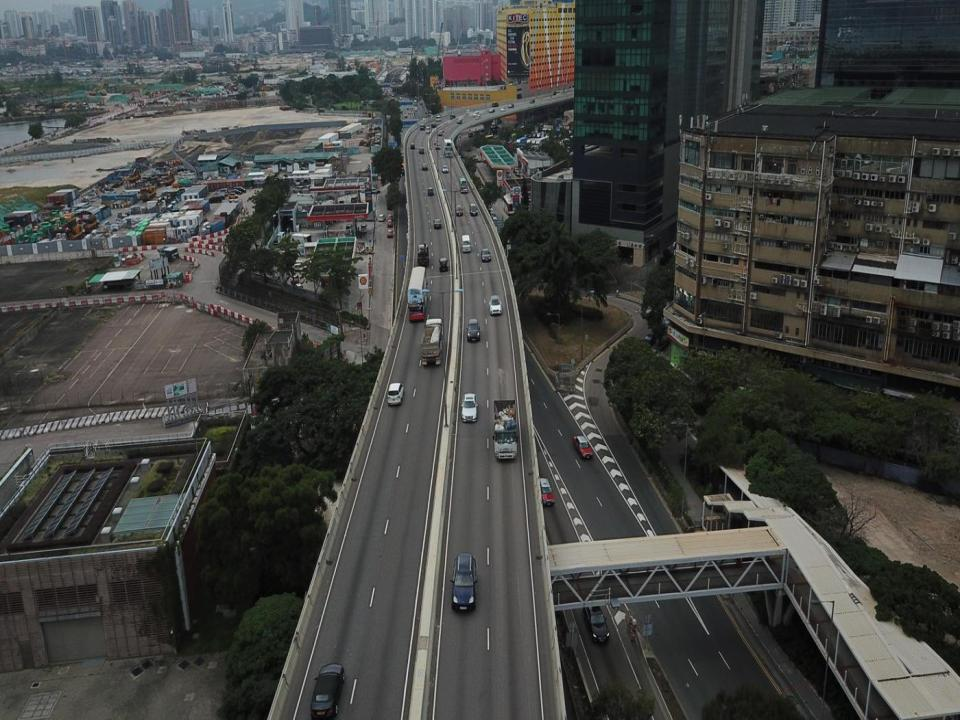bus: (406, 266, 428, 322), (503, 194, 515, 214), (443, 138, 452, 158)
car: (308, 662, 346, 719), (448, 551, 479, 615), (583, 600, 613, 642), (459, 391, 479, 422), (572, 433, 593, 461), (536, 476, 554, 506), (386, 379, 405, 407), (466, 316, 480, 343), (487, 293, 502, 317), (479, 247, 492, 264), (437, 256, 449, 273), (431, 216, 442, 230), (468, 202, 477, 217), (232, 186, 248, 194), (454, 204, 464, 216), (230, 188, 242, 195), (442, 164, 450, 174), (385, 228, 393, 238), (420, 162, 428, 172), (426, 187, 434, 196), (386, 219, 394, 228), (346, 223, 353, 233), (228, 192, 238, 199), (434, 114, 442, 122), (378, 213, 385, 222), (360, 222, 366, 232), (491, 101, 499, 108), (430, 121, 437, 128), (475, 114, 481, 122), (466, 108, 472, 116), (387, 214, 393, 221), (410, 142, 416, 149), (434, 142, 440, 149), (456, 118, 463, 124), (424, 126, 430, 133), (449, 113, 455, 120), (507, 103, 514, 109), (528, 98, 535, 104), (419, 146, 424, 154), (488, 108, 494, 114), (437, 129, 442, 136), (420, 124, 425, 131), (472, 111, 478, 116), (500, 107, 507, 111)
truck: (492, 398, 519, 460), (420, 317, 443, 366), (417, 241, 429, 268)
van: (461, 233, 472, 254), (209, 195, 222, 204)
